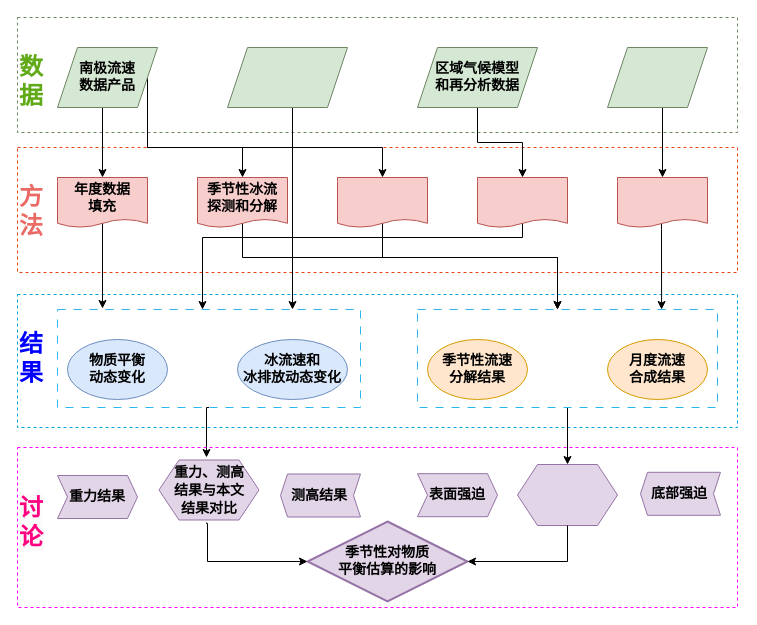
This 757x625 diagram has some shape labels left out. The box of each missing label's shape, as (x1, y1, x2, y2) in pixels:
ALOS-2 遥感影像: (606, 46, 708, 108)
SAR图像 流速反演: (616, 176, 708, 228)
全南极物质平衡估算: (56, 308, 360, 408)
典型冰川季节性流速分析: (416, 308, 718, 408)
冰厚度、通 量门、接地线、 流域边界: (226, 46, 348, 108)
季节性模式 的影响因素: (516, 464, 618, 526)
月度流速 数据合成: (336, 176, 428, 228)
表面物质平衡延拓: (476, 176, 568, 228)
